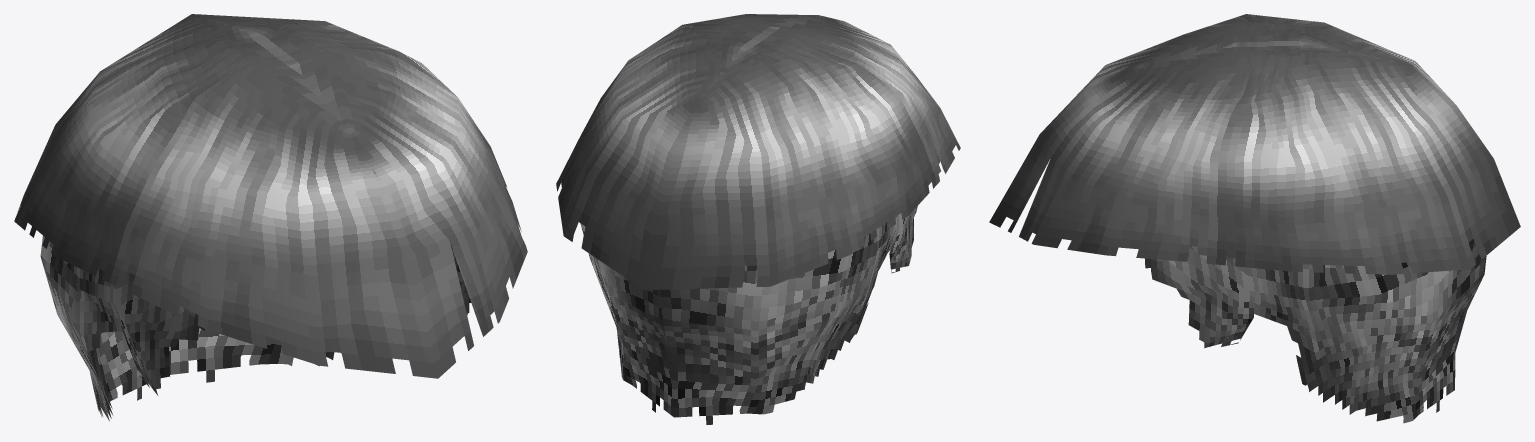
Rendered from m_head003.glb.
3 views of the same model, side by side, from view 1: azimuth 30°, elevation 25°; view 2: azimuth 150°, elevation 25°; view 3: azimuth 270°, elevation 25° (orthographic). The views are drawn at different scales.
Size of the model in its own units: 18.42 by 18.08 by 24.23.
Materials: 1 (1 with a texture image).
